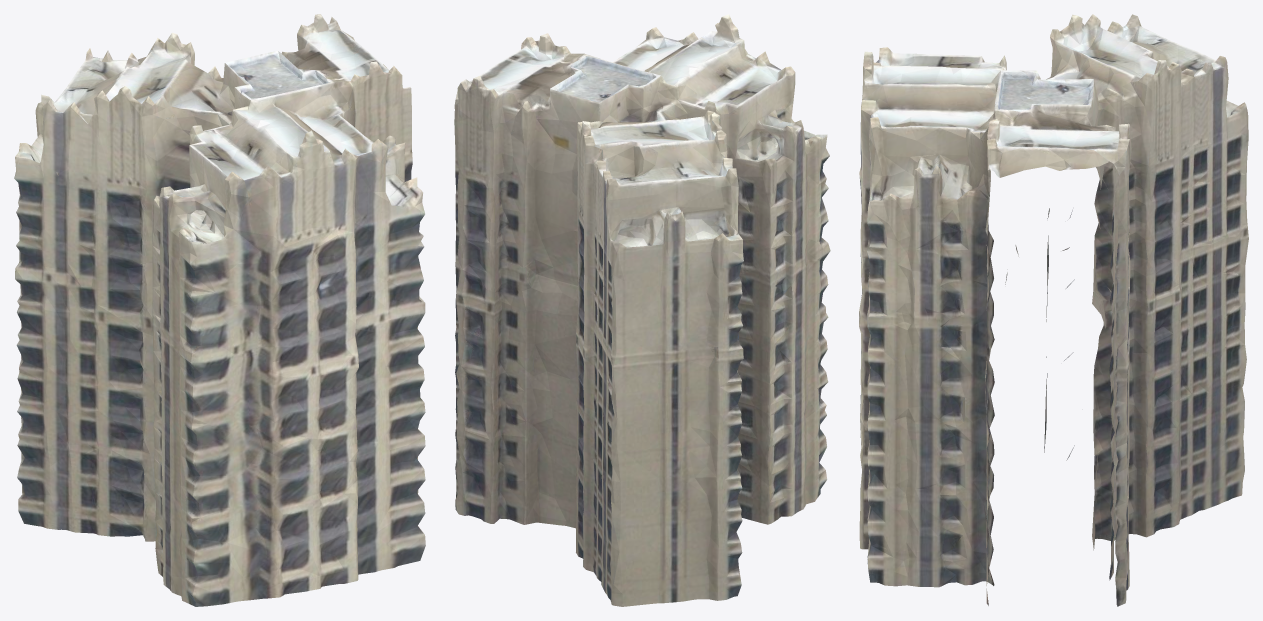
File: Tile__003__001_L20_000000t3.glb
3 views of the same model, side by side, from view 1: azimuth 30°, elevation 25°; view 2: azimuth 150°, elevation 25°; view 3: azimuth 270°, elevation 25° (orthographic). The views are drawn at different scales.
Parts seen in each view (by area): view 1: root; view 2: root; view 3: root.
Boxes of the visible parts, x1,y1,x2,y2 form: root: (14,14,425,606); root: (454,14,830,606); root: (859,14,1248,606).
Bounding box in the file's own units: 21.9 × 30.33 × 22.56.
Materials: 4 (4 with a texture image).
